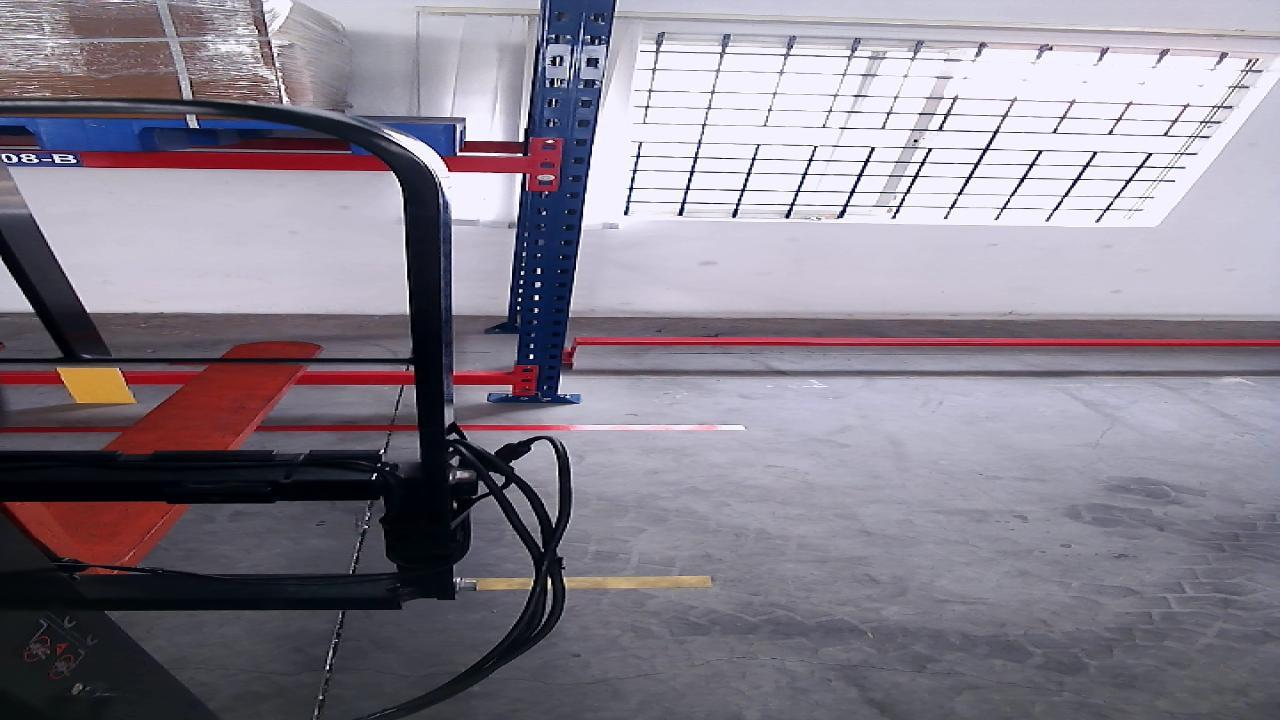h_rack: (0, 152, 526, 173), (2, 373, 510, 384)
orange_strip: (56, 367, 136, 403)
red_line: (2, 424, 744, 433)
small_pallet: (4, 118, 455, 157)
